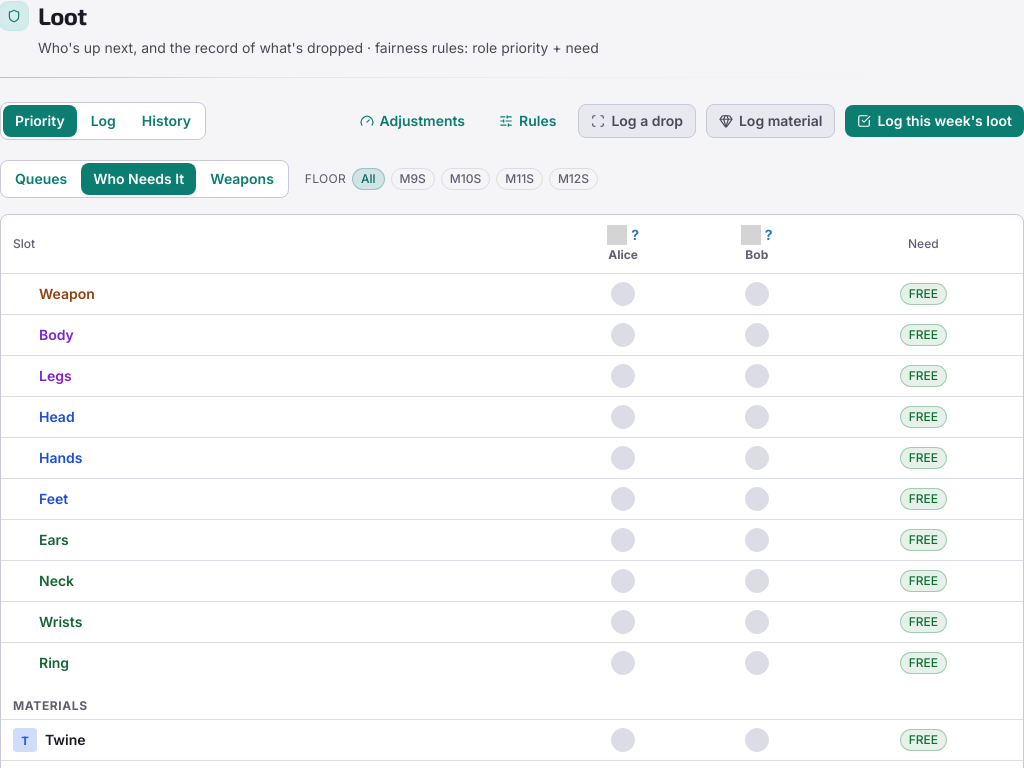
Test: Loot › replaces the pills with a static floor label in Weapons, in place (R-5)
Expected: the element named "Floor scope" is shown, 305,168 -> 598,190
Click the button "Weapons". click: (242,179)
box: 198,163 -> 286,195
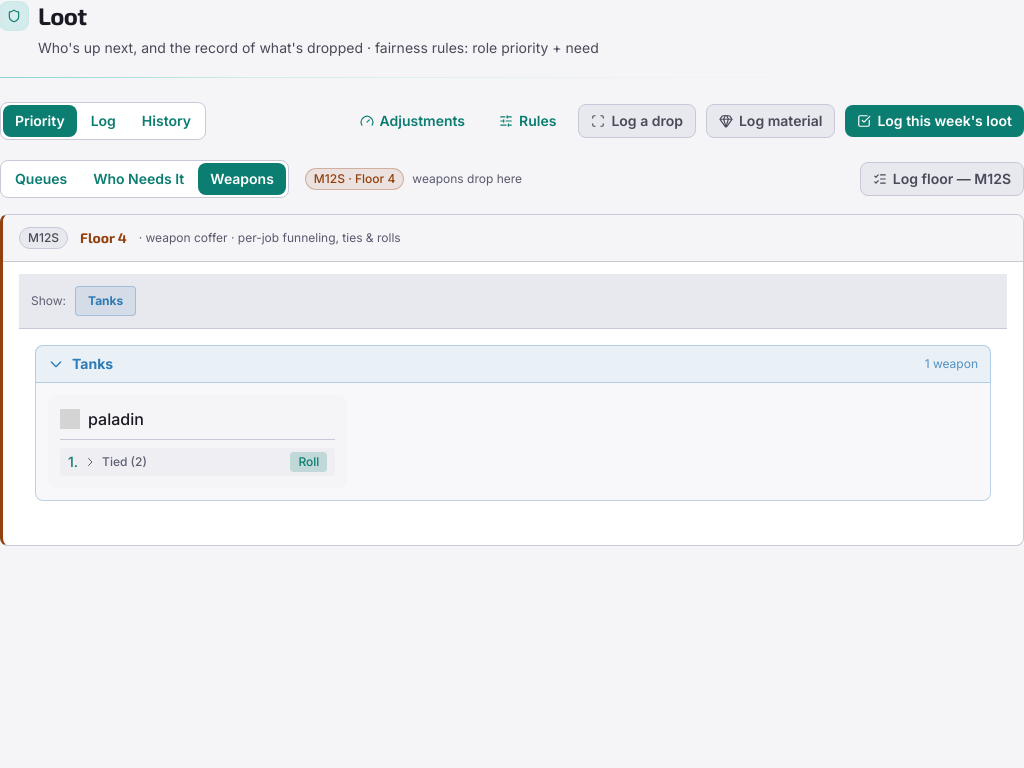
Expected: the text "M12S · Floor 4" is shown, 305,168 -> 404,190
